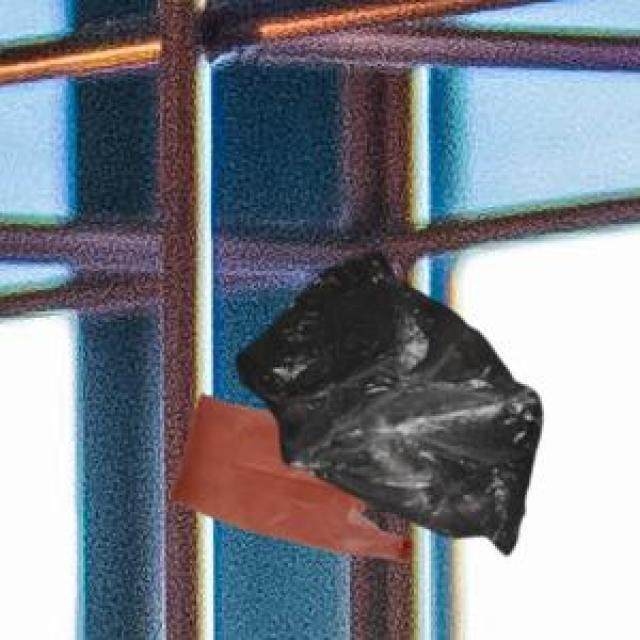waste: (239, 258, 541, 513), (171, 399, 409, 562)
